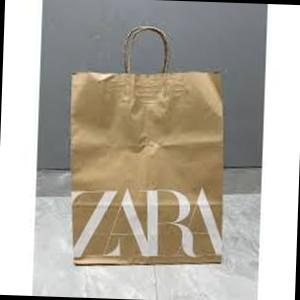zara: (198, 91, 263, 273)
